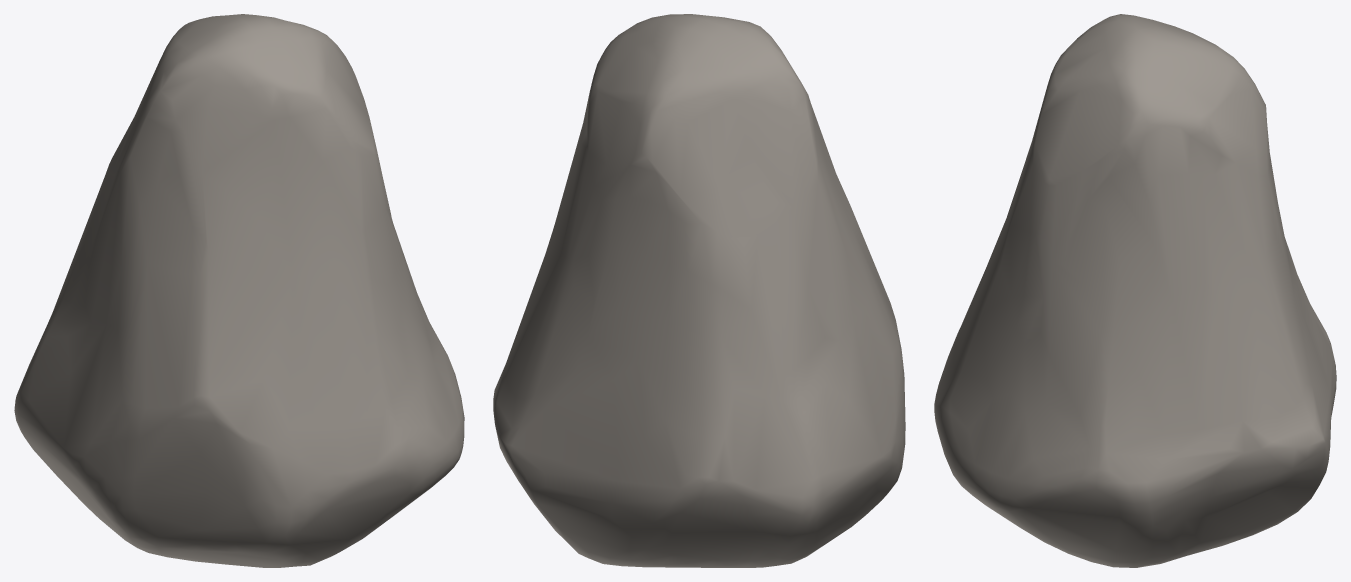
The model's file is Environment_Rock_2.gltf.
3 renders of one model, left to right at view 1: azimuth 30°, elevation 25°; view 2: azimuth 150°, elevation 25°; view 3: azimuth 270°, elevation 25°, orthographic. The views are drawn at different scales.
Visible parts, largest first — view 1: Environment_Rock_2; view 2: Environment_Rock_2; view 3: Environment_Rock_2.
Part boxes in pixels (x1,y1,x2,y2): Environment_Rock_2: [14, 14, 464, 567]; Environment_Rock_2: [493, 14, 905, 567]; Environment_Rock_2: [934, 14, 1336, 567].
Size of the model in its own units: 0.7832 by 1.05 by 0.7585.
1 material, 1 textured.
